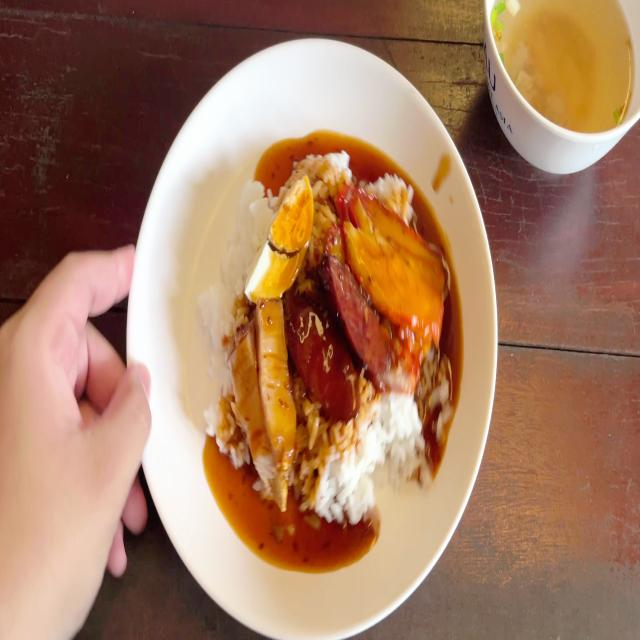boiled_egg: (244, 174, 310, 293)
chainese_sausage: (321, 260, 395, 376), (292, 295, 354, 410)
crispy_pork: (236, 352, 286, 500), (254, 299, 294, 465)
red_pork: (345, 189, 444, 335)
red_pork_and_crispy_pork: (196, 160, 450, 511)
rice: (326, 402, 424, 518), (198, 276, 240, 453), (230, 180, 276, 256)
